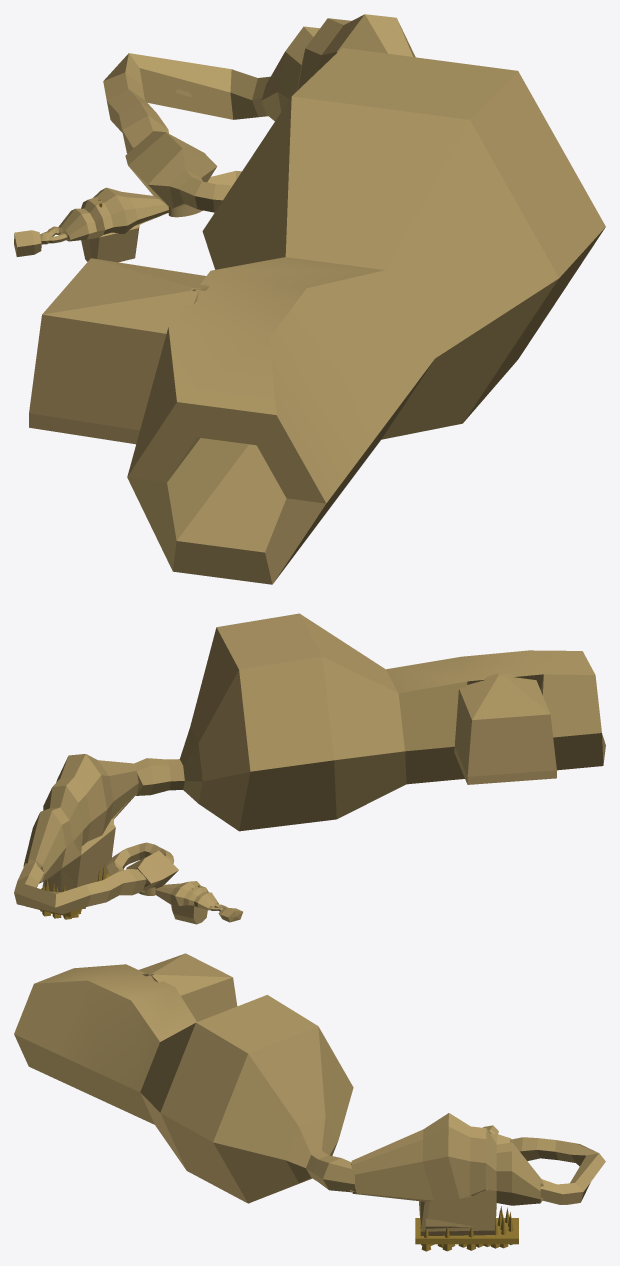
The model's file is Cave.fbx.
3 renders of one model, top to bottom at view 1: azimuth 30°, elevation 25°; view 2: azimuth 150°, elevation 25°; view 3: azimuth 270°, elevation 25°, orthographic. The views are drawn at different scales.
Parts seen in each view (by area): view 1: pTorus6, pCube1, pTorus5, FirstCave1, pTorus4, FirstCave; view 2: pTorus6, FirstCave1, pCube1, pTorus5, pTorus4, FirstCave, Spikes; view 3: pTorus6, FirstCave1, pCube1, pTorus5, Spikes.
Part boxes in pixels (<box>): pTorus6: <box>127,48,605,584</box>; pCube1: <box>29,258,209,444</box>; pTorus5: <box>103,53,270,153</box>; FirstCave1: <box>261,14,415,121</box>; pTorus4: <box>125,131,241,212</box>; FirstCave: <box>58,187,168,262</box>; pTorus6: <box>133,613,605,831</box>; FirstCave1: <box>23,754,138,892</box>; pCube1: <box>454,673,556,784</box>; pTorus5: <box>14,862,146,914</box>; pTorus4: <box>106,842,178,892</box>; FirstCave: <box>155,881,218,924</box>; Spikes: <box>26,865,123,919</box>; pTorus6: <box>14,964,354,1203</box>; FirstCave1: <box>350,1113,543,1236</box>; pCube1: <box>139,953,237,1021</box>; pTorus5: <box>510,1137,605,1204</box>; Spikes: <box>415,1206,518,1251</box>.
Size of the model in its own units: 4306 by 2268 by 6630.
